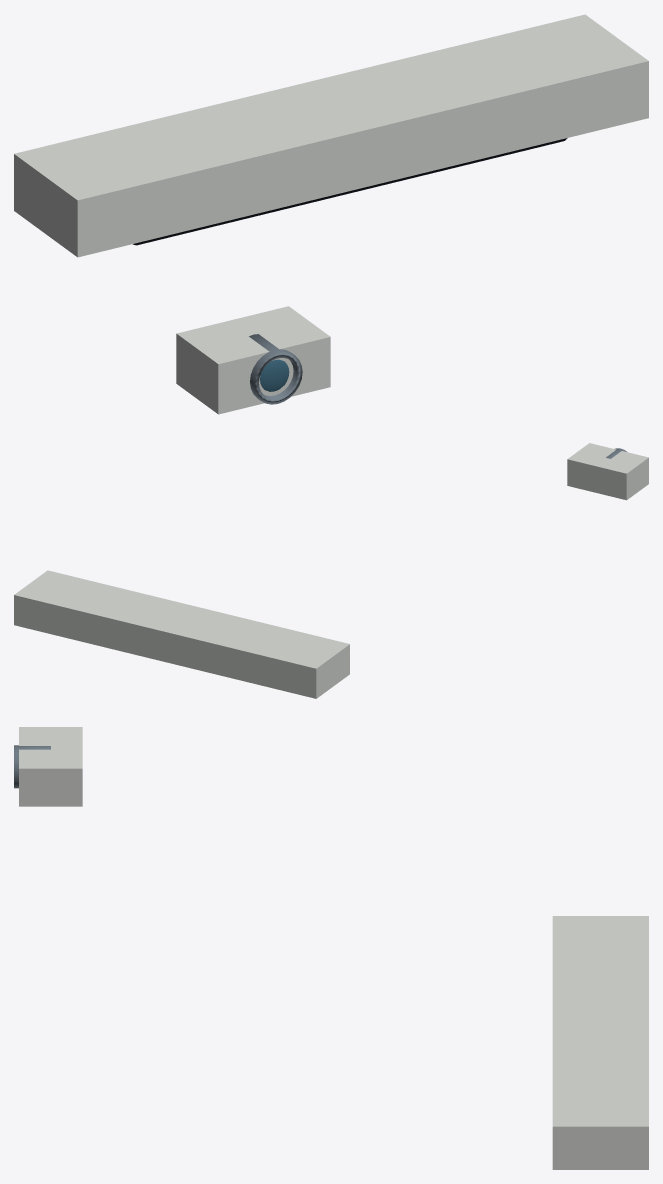
The model's file is perseverance_science.glb.
3 renders of one model, top to bottom at view 1: azimuth 30°, elevation 25°; view 2: azimuth 150°, elevation 25°; view 3: azimuth 270°, elevation 25°, orthographic. The views are drawn at different scales.
Visible parts, largest first — view 1: perseverance_science.rimfax.mesh_Pale_thermal_blanket, perseverance_science.meda_sensors.mesh_Pale_thermal_blanket, perseverance_science.meda_sensors.radiometer.mesh_Machined_s, perseverance_science.rimfax.mesh_Shadowed_interior, perseverance_science.meda_sensors.radiometer.lens.mesh_Coate; view 2: perseverance_science.rimfax.mesh_Pale_thermal_blanket, perseverance_science.meda_sensors.mesh_Pale_thermal_blanket; view 3: perseverance_science.rimfax.mesh_Pale_thermal_blanket, perseverance_science.meda_sensors.mesh_Pale_thermal_blanket.
Boxes of the visible parts, x1,y1,x2,y2 form: perseverance_science.rimfax.mesh_Pale_thermal_blanket: (14, 14, 648, 257); perseverance_science.meda_sensors.mesh_Pale_thermal_blanket: (176, 306, 330, 414); perseverance_science.meda_sensors.radiometer.mesh_Machined_s: (249, 334, 302, 404); perseverance_science.rimfax.mesh_Shadowed_interior: (133, 138, 567, 245); perseverance_science.meda_sensors.radiometer.lens.mesh_Coate: (260, 359, 289, 391); perseverance_science.rimfax.mesh_Pale_thermal_blanket: (14, 570, 349, 698); perseverance_science.meda_sensors.mesh_Pale_thermal_blanket: (567, 443, 648, 500); perseverance_science.rimfax.mesh_Pale_thermal_blanket: (552, 916, 648, 1169); perseverance_science.meda_sensors.mesh_Pale_thermal_blanket: (19, 727, 82, 806).
Bounding box in the file's own units: 1.21 × 0.324 × 1.12.
